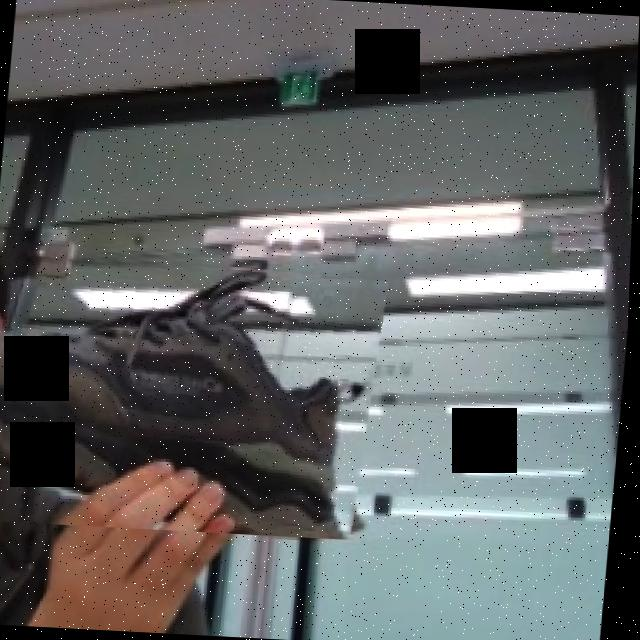shoe: (0, 243, 393, 540)
